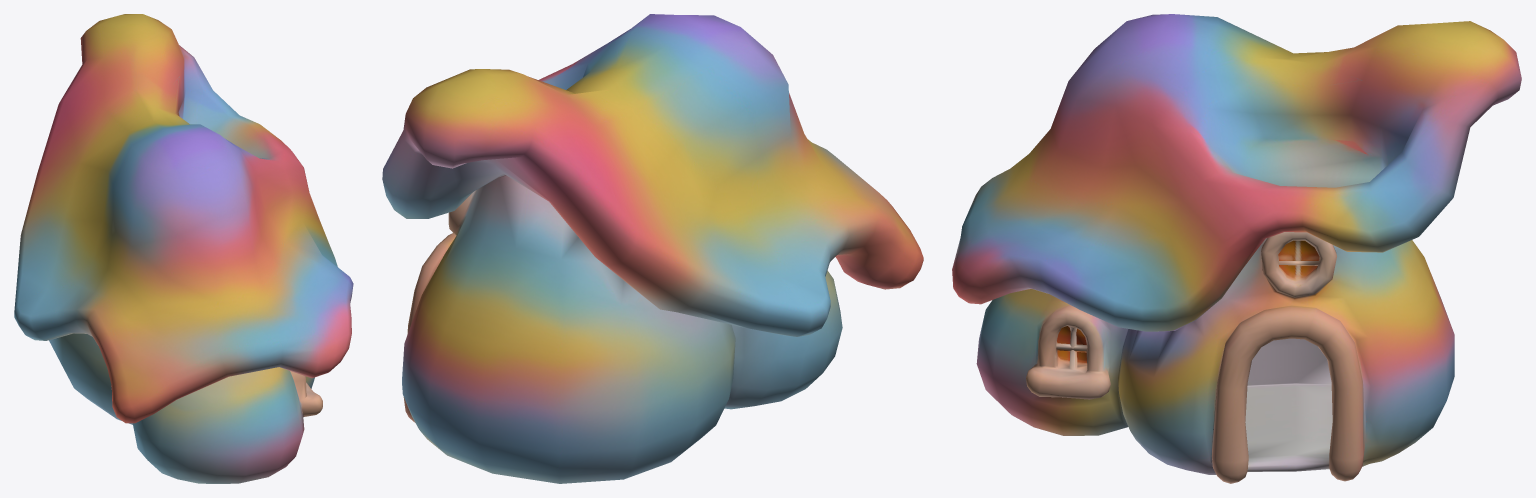
Rendered from d05f4292-95e5-45e4-bc6f-2439b37cfc09.glb.
3 views of the same model, side by side, from view 1: azimuth 30°, elevation 25°; view 2: azimuth 150°, elevation 25°; view 3: azimuth 270°, elevation 25° (orthographic). The views are drawn at different scales.
Visible parts, largest first — view 1: tripo_node_d1cddcaf-c7ab-446d-afe5-bc2c0540e723; view 2: tripo_node_d1cddcaf-c7ab-446d-afe5-bc2c0540e723; view 3: tripo_node_d1cddcaf-c7ab-446d-afe5-bc2c0540e723.
Part boxes in pixels (left/top/right/bottom): tripo_node_d1cddcaf-c7ab-446d-afe5-bc2c0540e723: left=14, top=14, right=353, bottom=483; tripo_node_d1cddcaf-c7ab-446d-afe5-bc2c0540e723: left=382, top=14, right=923, bottom=483; tripo_node_d1cddcaf-c7ab-446d-afe5-bc2c0540e723: left=952, top=14, right=1521, bottom=483.
Bounding box in the file's own units: 0.7436 × 0.8043 × 0.9961.
1 material, 1 textured.
